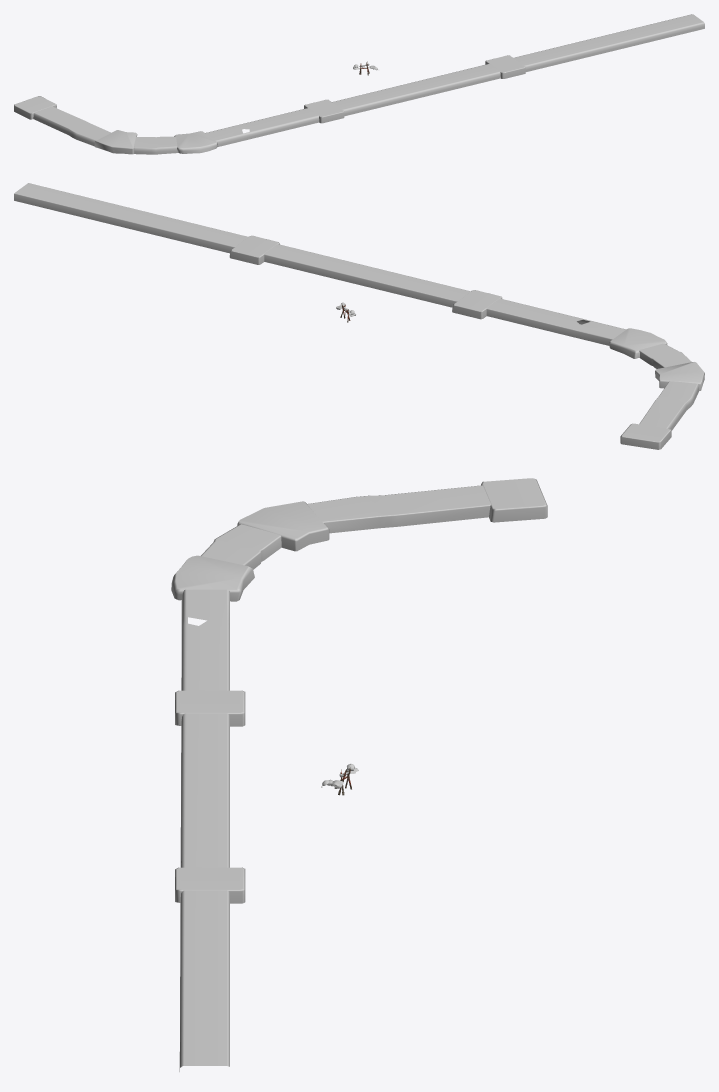
3 views of the same model, one above another, from view 1: azimuth 30°, elevation 25°; view 2: azimuth 150°, elevation 25°; view 3: azimuth 270°, elevation 25° (orthographic). The views are drawn at different scales.
Visible parts, largest first — view 1: m01a06hei_1_Group_0_Sub_1__B_iwa09; view 2: m01a06hei_1_Group_0_Sub_1__B_iwa09; view 3: m01a06hei_1_Group_0_Sub_1__B_iwa09.
Boxes of the visible parts, x1,y1,x2,y2 form: m01a06hei_1_Group_0_Sub_1__B_iwa09: (14,14,704,154); m01a06hei_1_Group_0_Sub_1__B_iwa09: (14,183,704,449); m01a06hei_1_Group_0_Sub_1__B_iwa09: (171,478,547,1071).
Size of the model in its own units: 16541 by 336 by 4471.
